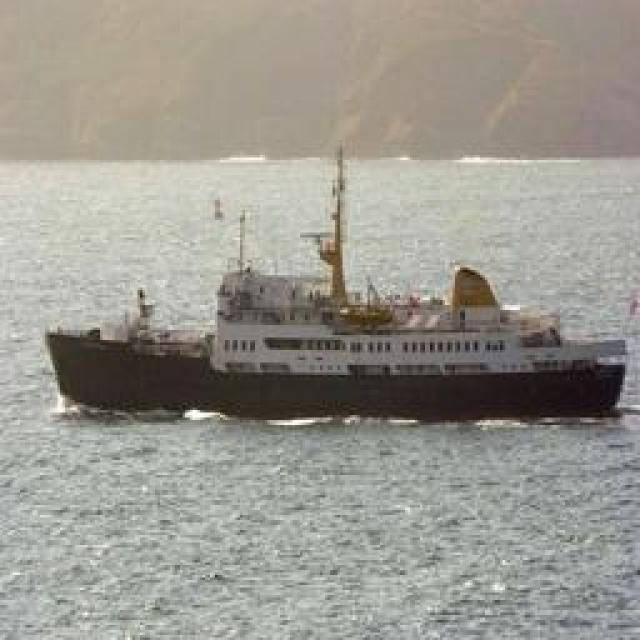CIV_Ship: (34, 222, 616, 426)
